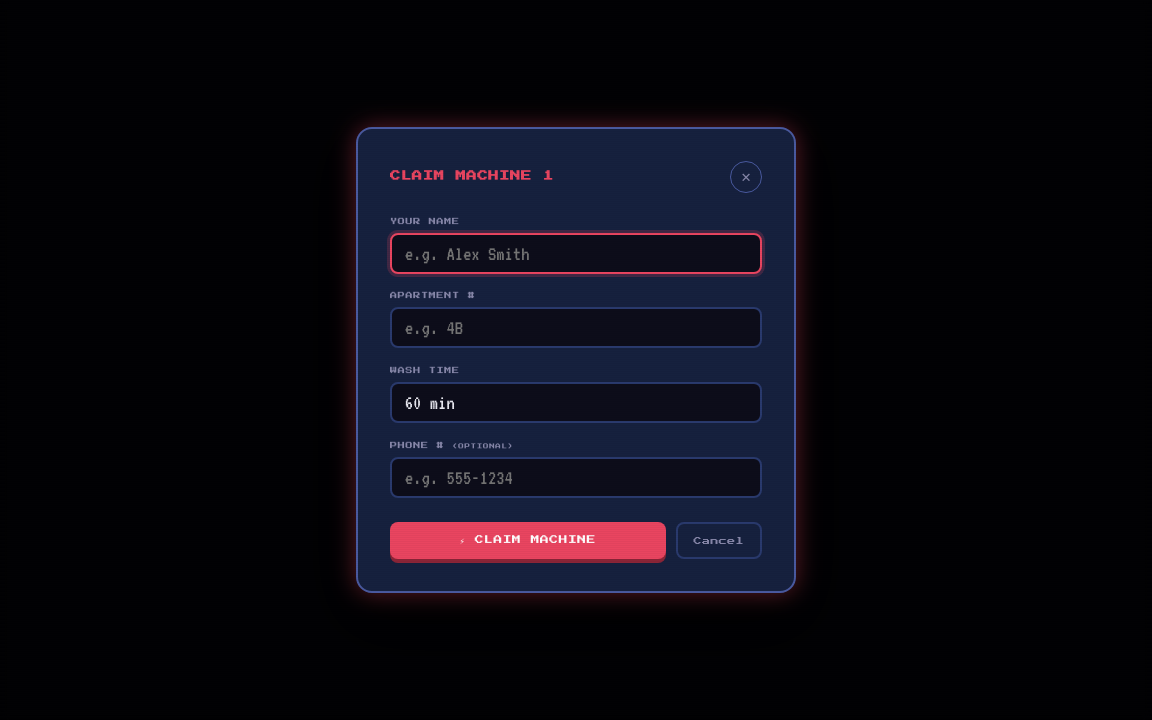
Test: ClaimDialog - validation › clears name error when user types
The width and height of the screenshot is (1152, 720).
Click the button with test id "btn-claim-submit" at coordinates (528, 541), box left=390, top=522, right=666, bottom=559
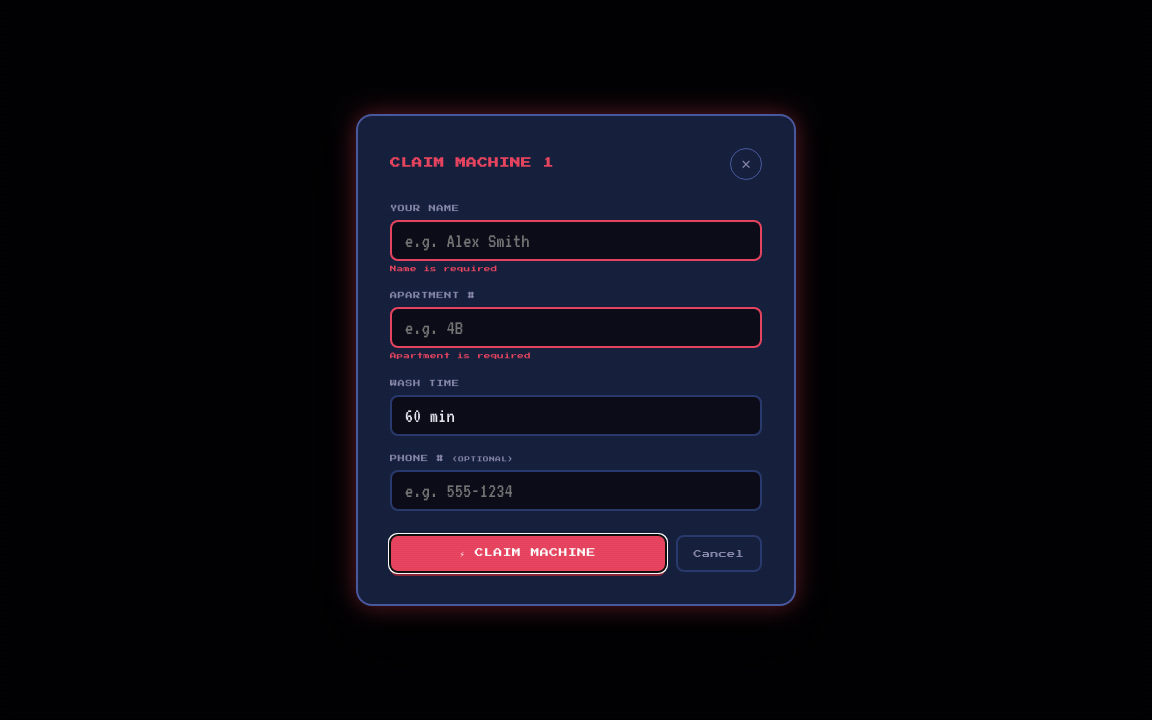
Result: the text "Name is required" is shown at left=390, top=266, right=497, bottom=272
Type "Alice" into the field with test id "input-name" at coordinates (576, 240), box left=390, top=220, right=762, bottom=261
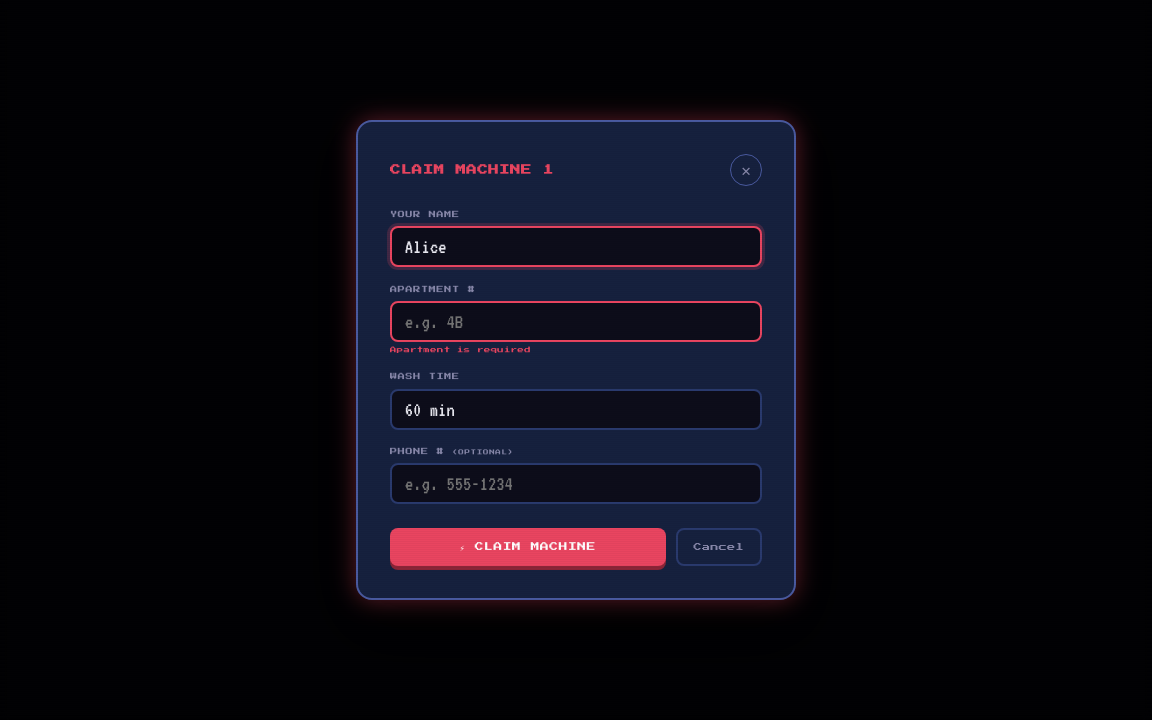
Result: the text "Name is required" is gone
